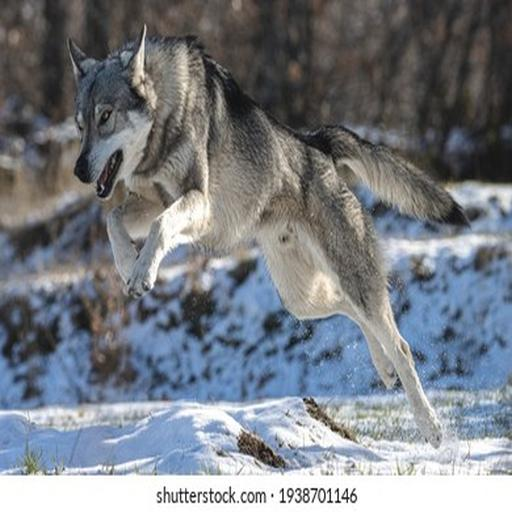Wolf: (64, 20, 483, 463)
